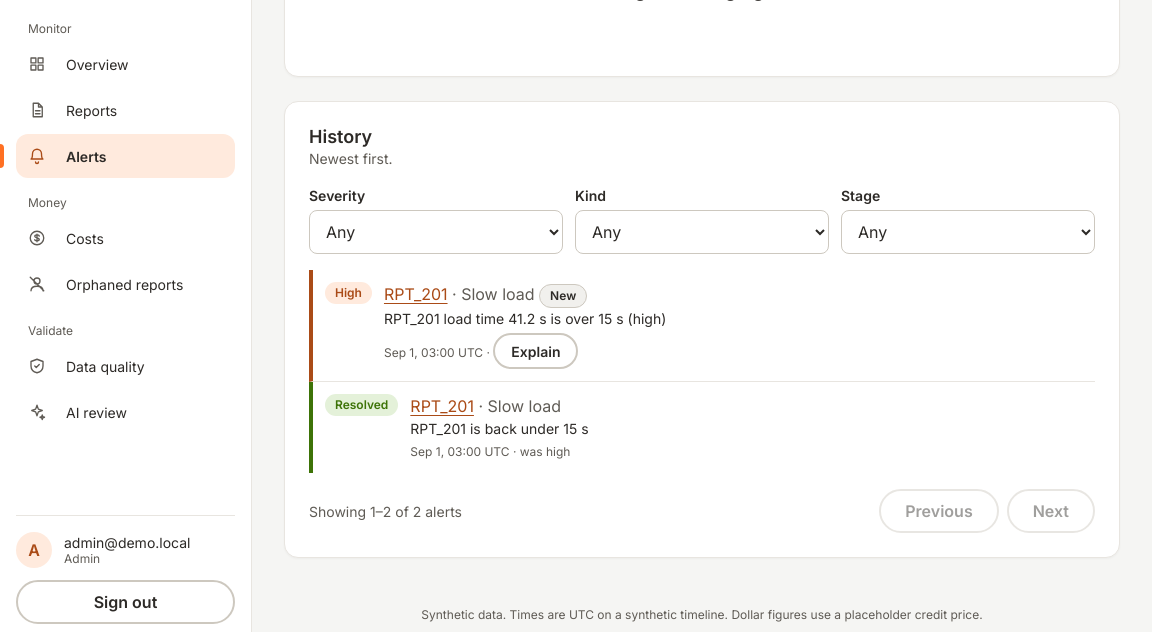
it: Explain this alert: the checked answer stands in, and decisions happen on the alert › a check that did not pass is open by default and says so in words, not colour alone
This screenshot has width=1152, height=632.
(page scrolled)
Click the button with aria-label "Explain alert 1" at [536, 351], box [493, 333, 578, 369]
(page scrolled)
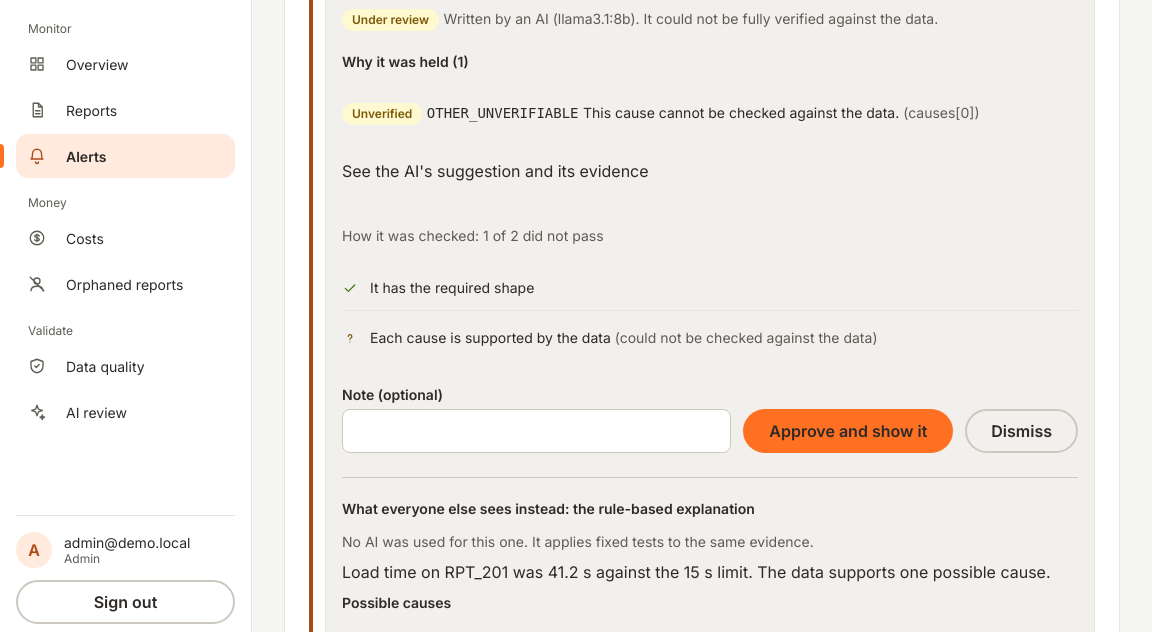
Result: the text "(could not be checked against the data)" is shown at [611, 329, 878, 346]
